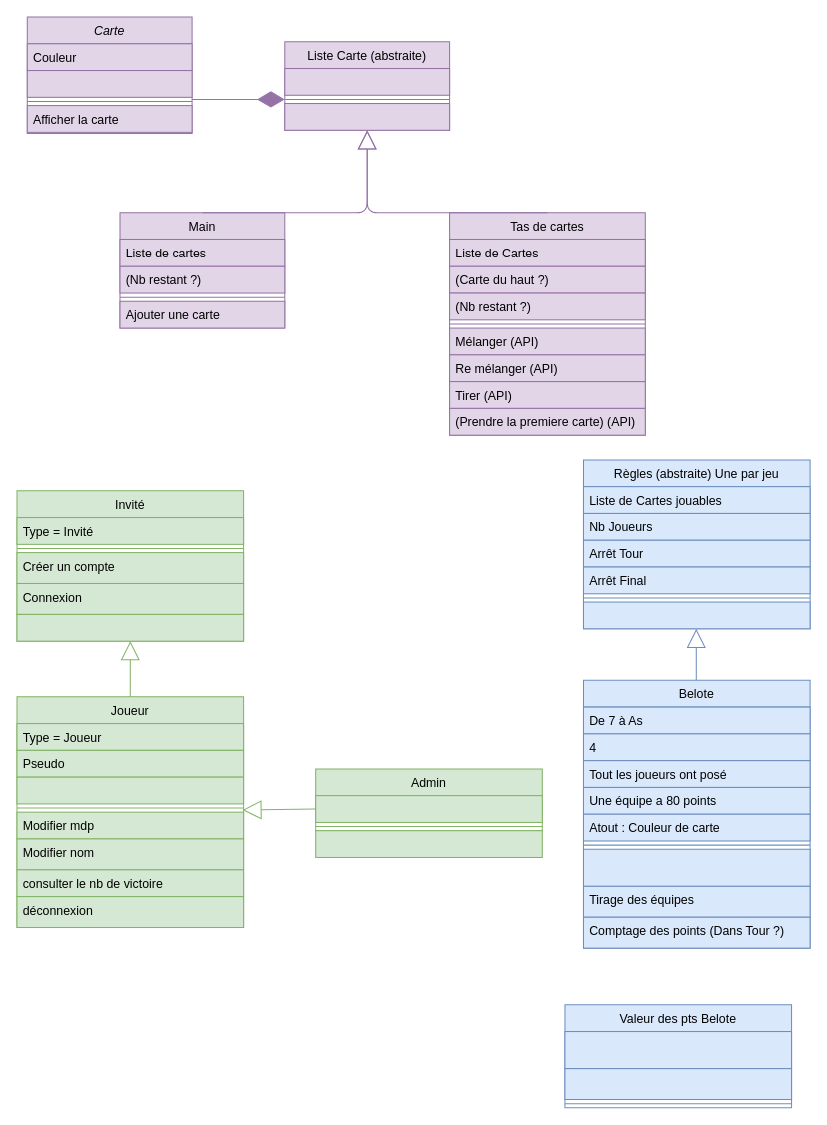
The diagram is 827 pixels wide and 1125 high, and some of its shapes have lost their labels. The shapes that lost their labels are listed below. From the top down, each one's centre as x and y in pixels, then its label:
(x=109, y=83): Rang
(x=367, y=81): Cartes (Liste de Cartes)
(x=367, y=116): Afficher la liste
(x=130, y=627): Quitter (Interface)
(x=696, y=615): Tour (Non init)
(x=130, y=790): Mdp
(x=428, y=808): Type = Admin
(x=428, y=843): créer un jeu
(x=696, y=867): Initialisation du tour de base puis jeu en comptant les atouts
(x=678, y=1050): valeur des cartes d'atout
(x=678, y=1084): Valeur des cartes (autres couleurs)
